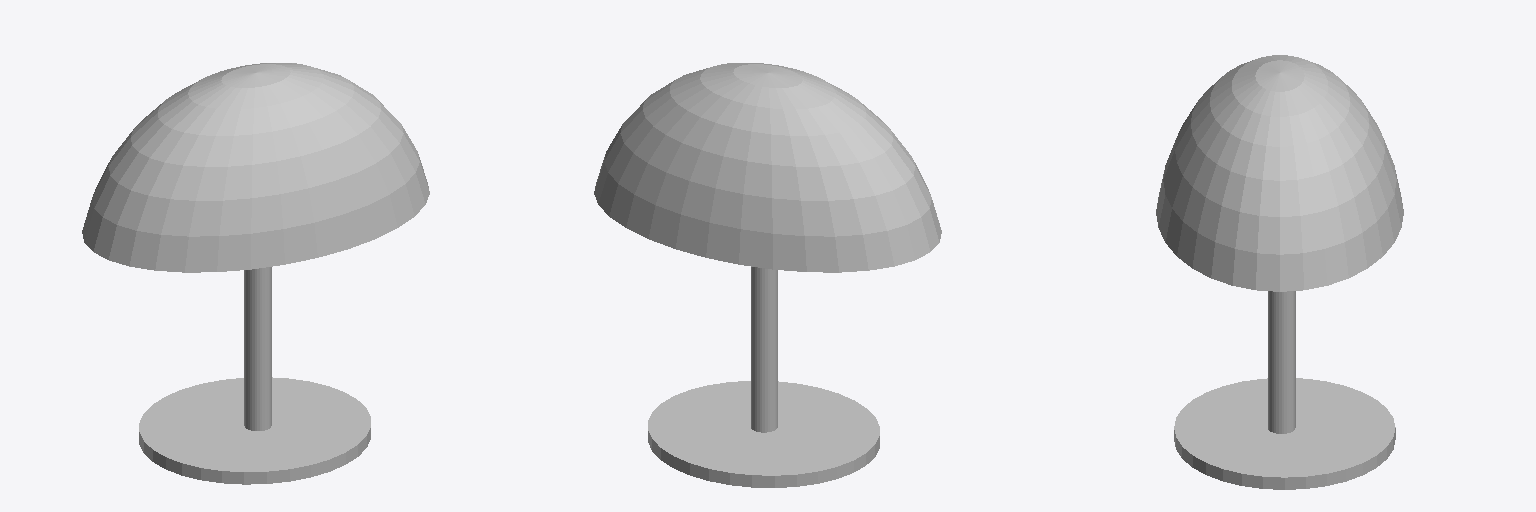
Rendered from abajur mudar exportacao.obj.
3 views of the same model, side by side, from view 1: azimuth 30°, elevation 25°; view 2: azimuth 150°, elevation 25°; view 3: azimuth 270°, elevation 25° (orthographic).
Parts seen in each view (by area): view 1: Sphere, Cylinder.001, Cylinder; view 2: Sphere, Cylinder.001, Cylinder; view 3: Sphere, Cylinder.001, Cylinder.
Part boxes in pixels (left/top/right/bottom): Sphere: left=82, top=63, right=429, bottom=272; Cylinder.001: left=139, top=377, right=370, bottom=484; Cylinder: left=244, top=267, right=271, bottom=430; Sphere: left=594, top=63, right=941, bottom=272; Cylinder.001: left=648, top=381, right=879, bottom=487; Cylinder: left=751, top=267, right=777, bottom=432; Sphere: left=1156, top=55, right=1403, bottom=291; Cylinder.001: left=1174, top=378, right=1395, bottom=489; Cylinder: left=1268, top=291, right=1295, bottom=433.
Size of the model in its own units: 1.96 by 2.11 by 1.29.